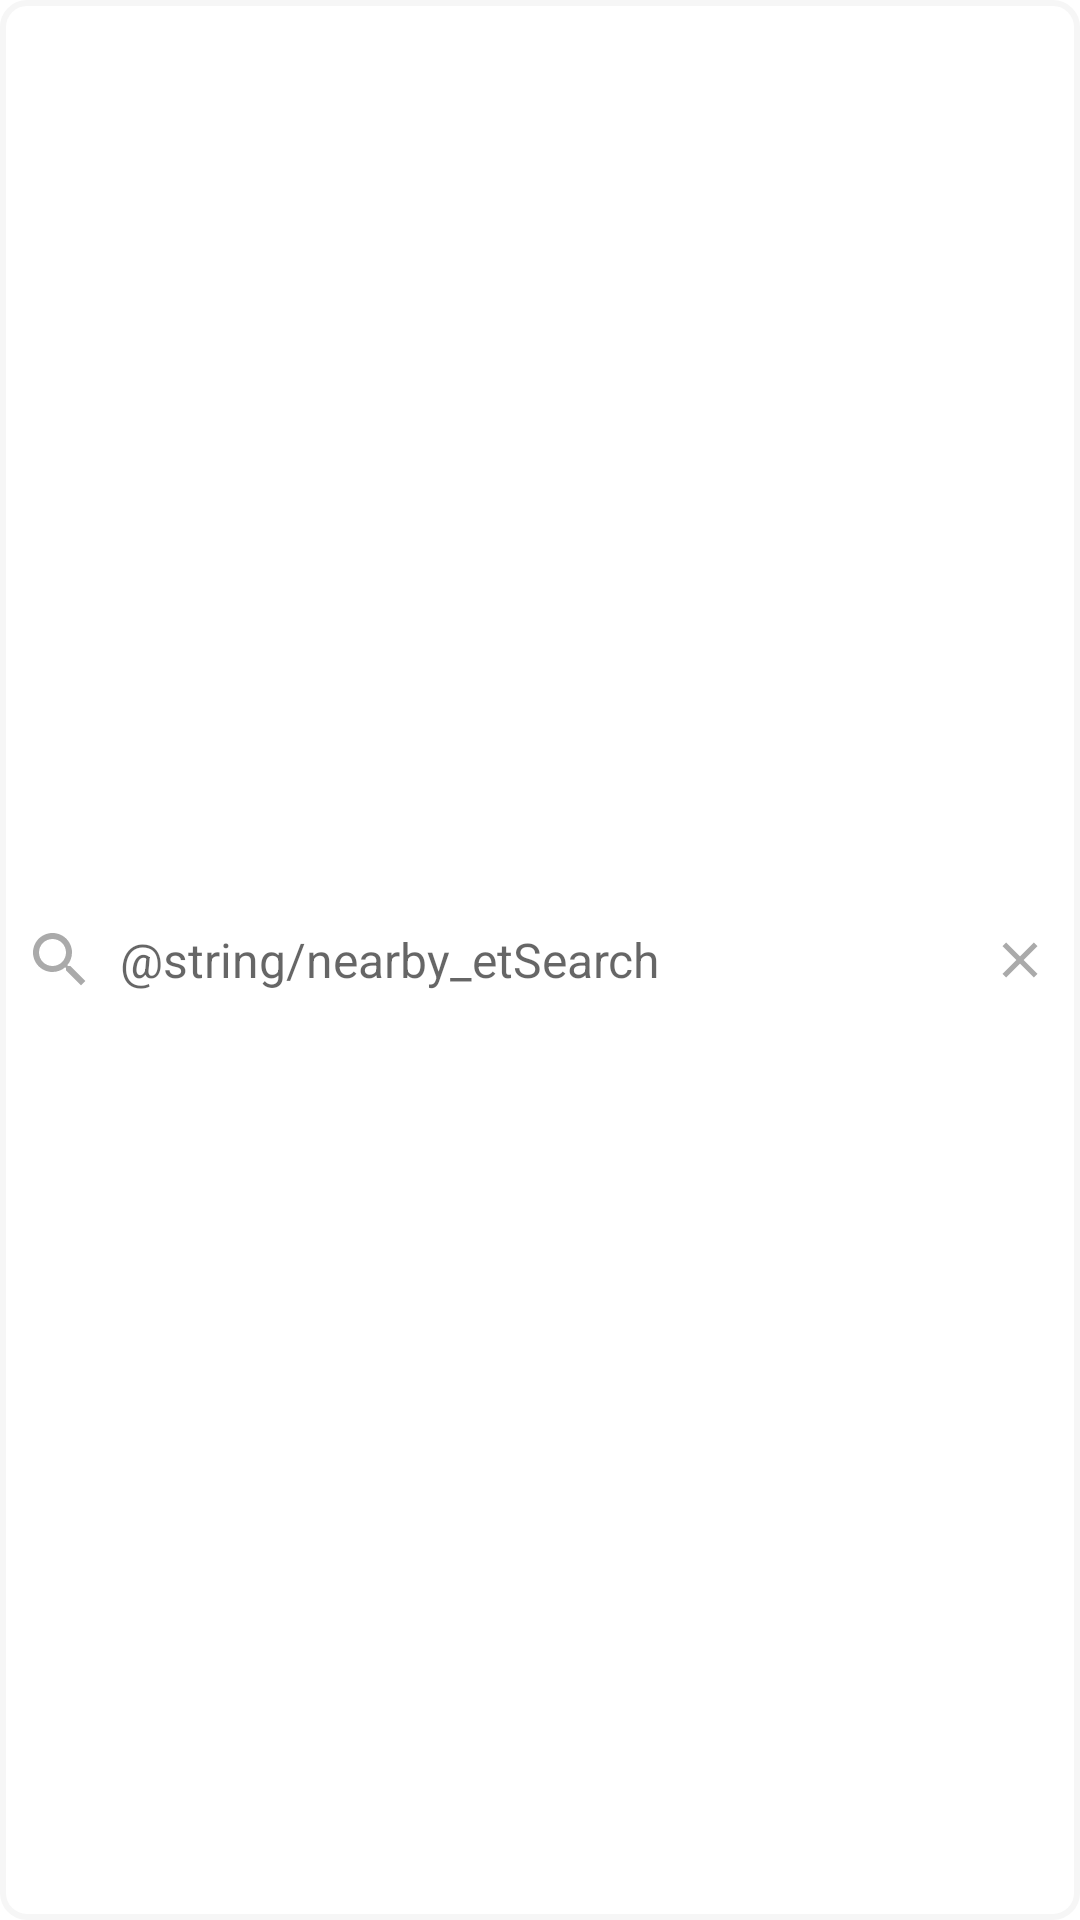

Where icons sit on this 1080 × 1920 app screen, as (x1, y1, x2, y2):
close: (1003, 943, 1037, 977)
search: (33, 933, 85, 985)
